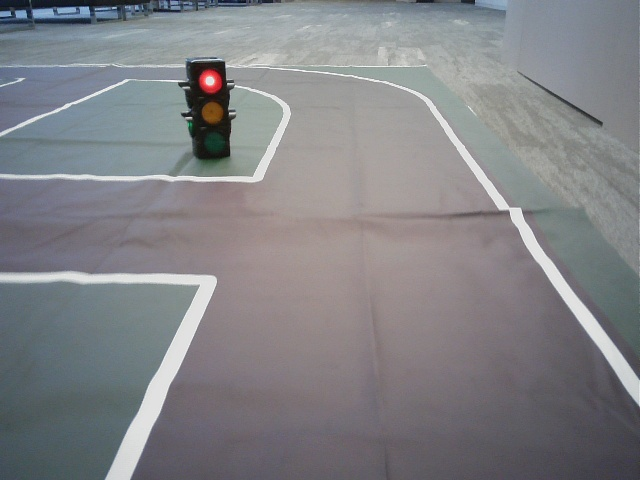red: (197, 64, 226, 155)
